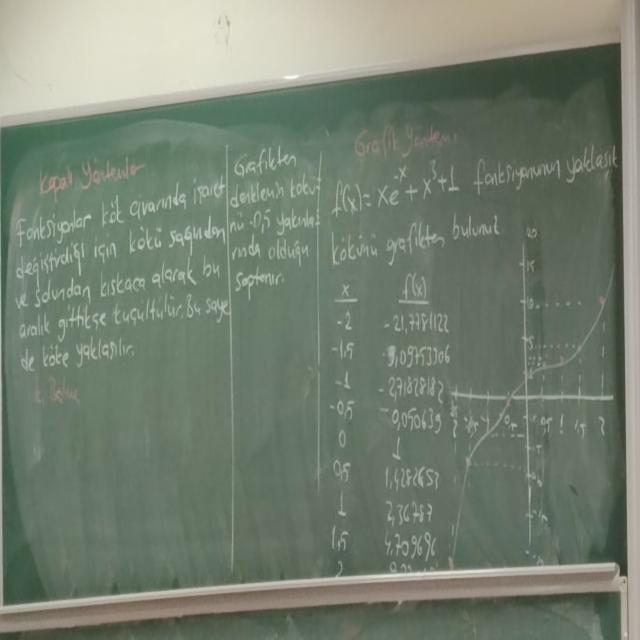image: (454, 216, 618, 561)
math: (331, 301, 454, 573), (327, 144, 464, 249)
text: (12, 168, 233, 388), (229, 130, 320, 325), (326, 213, 506, 272), (471, 147, 620, 196), (36, 157, 148, 196), (348, 122, 456, 154)
